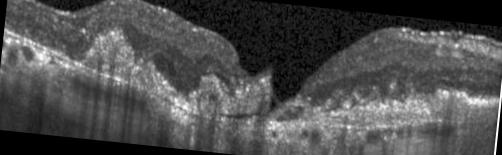lamellar_macular_rupture: (234, 46, 316, 108)
subretinal_fluid: (276, 104, 305, 121)
subretinal_hyperreflective_material: (81, 24, 271, 114), (272, 84, 497, 126)
